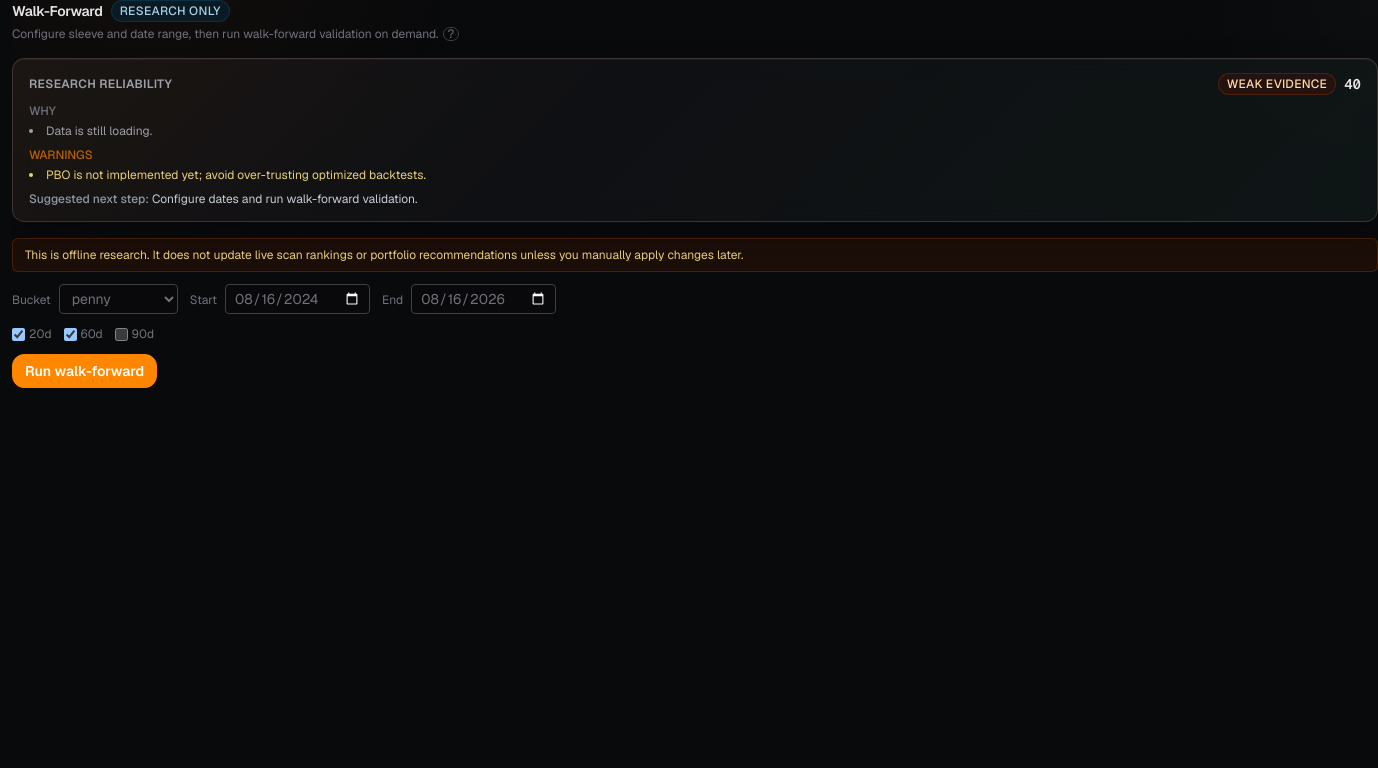
Quant Lab tabs › WalkForwardTab › shows weak walk-forward overfitting warnings after run
Click the button "Run walk-forward" at (85, 371), box [12,354,157,388]
(page scrolled)
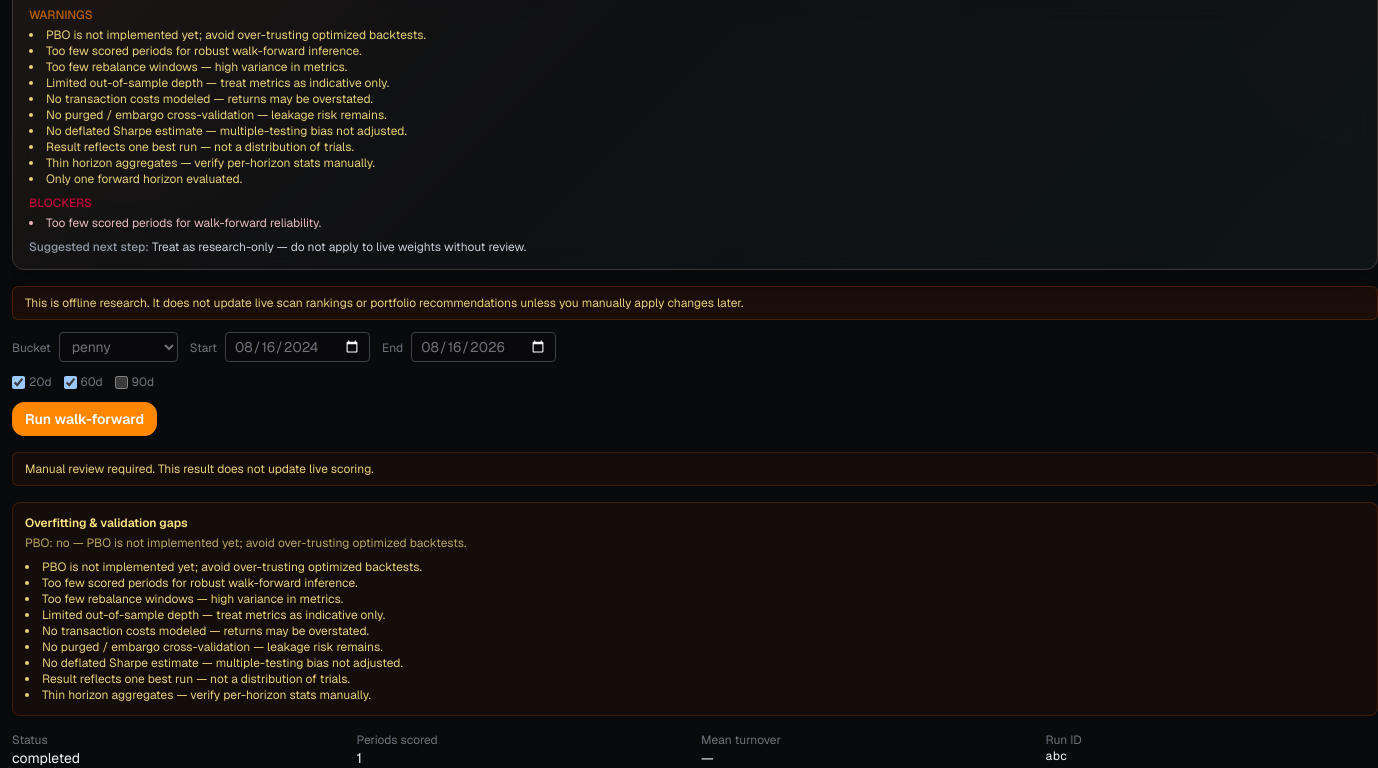
Check: the element with test id "walk-forward-overfitting-warnings" is shown, box [12,502,1377,716]
Check: the element with test id "walk-forward-overfitting-warnings" shows "No transaction costs modeled — returns may be overstated.", box [42,623,369,639]
